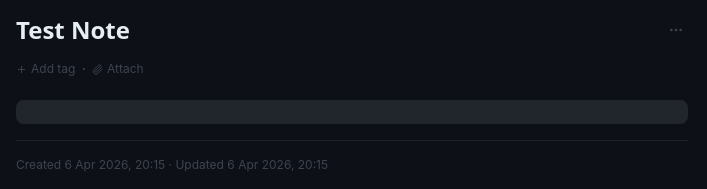
it: NoteDetail › shows Delete permanently (not Move to trash) for trashed notes
This screenshot has width=707, height=189.
Click the button named "Note actions" at coordinates (676, 30), box [664,18,688,42]
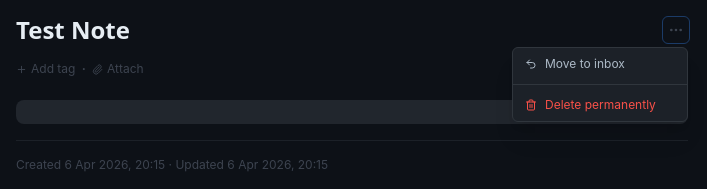
Check: the button "Delete permanently" is shown, box [513,89,687,121]
